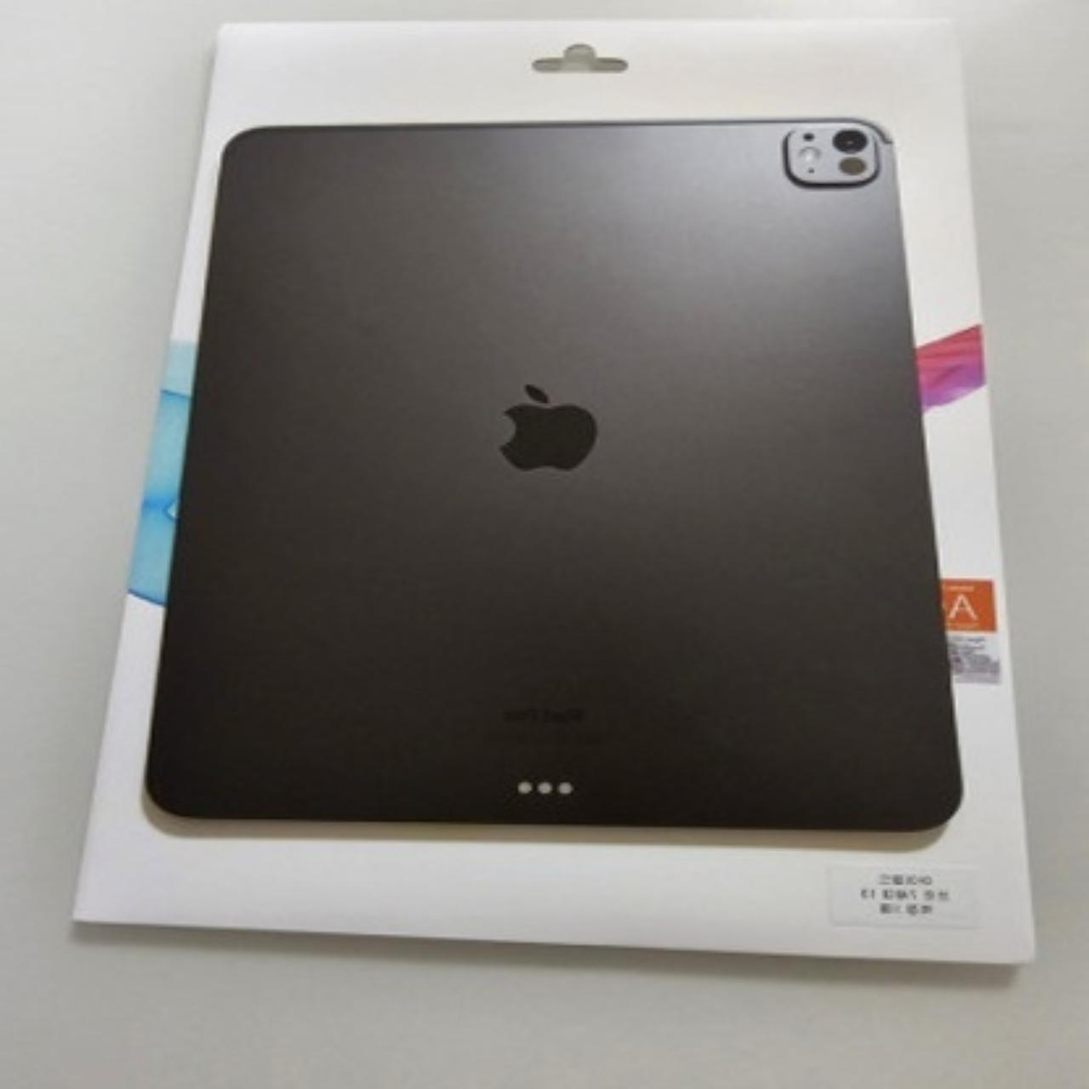Tablet_PC: (124, 107, 969, 856)
